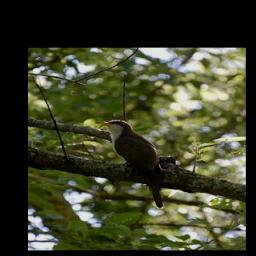Cuckoo: (94, 119, 168, 210)
